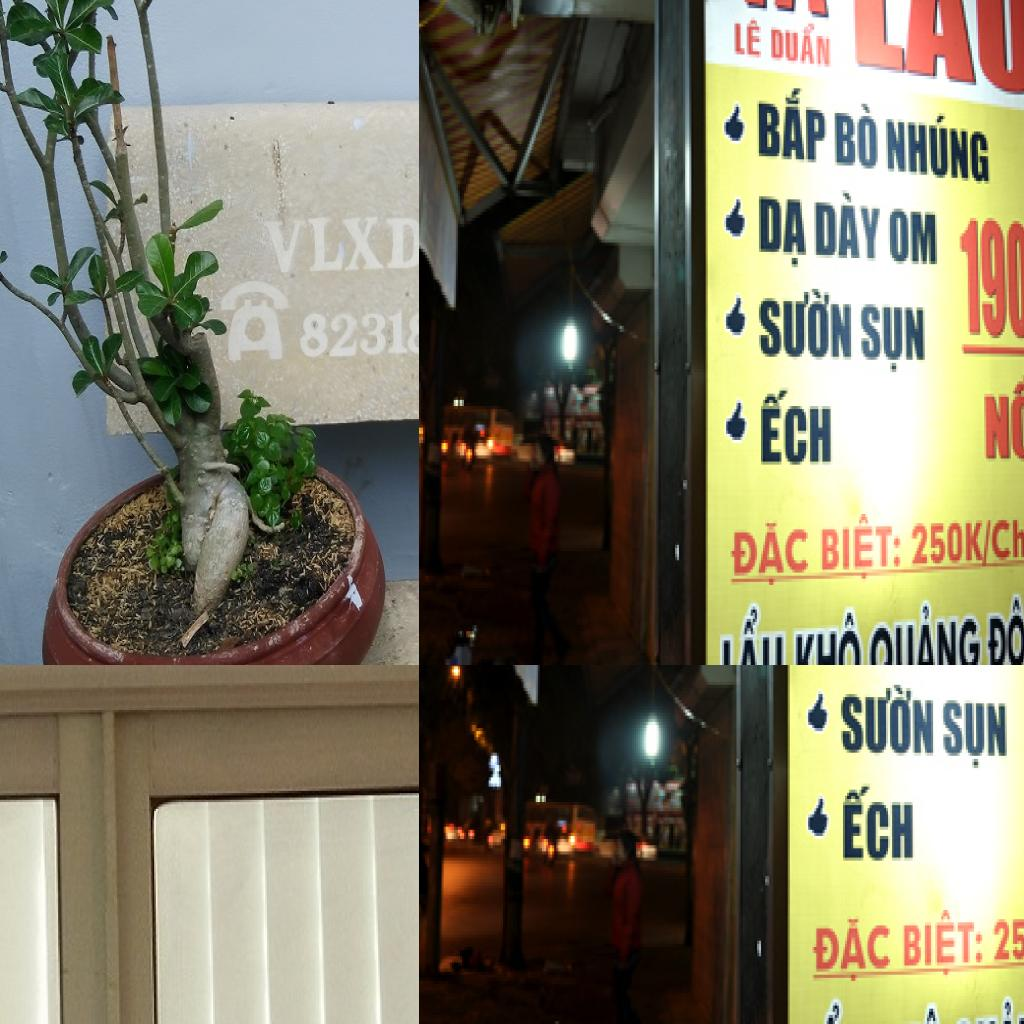text: (840, 0, 1024, 106), (267, 202, 419, 290), (949, 205, 1024, 347), (749, 277, 857, 372), (831, 673, 939, 768), (882, 98, 992, 187), (747, 378, 843, 471), (829, 774, 925, 867), (300, 299, 419, 373), (902, 504, 1024, 575), (720, 511, 812, 591), (802, 907, 894, 987), (867, 600, 980, 665), (812, 508, 906, 582), (894, 904, 988, 978), (752, 79, 828, 169), (855, 292, 931, 378), (937, 688, 1013, 774), (810, 178, 882, 258), (972, 366, 1024, 474), (751, 181, 810, 276), (711, 597, 787, 665), (787, 600, 865, 665), (769, 14, 839, 79), (828, 94, 882, 168), (884, 203, 941, 264), (984, 900, 1024, 971), (793, 993, 869, 1024), (869, 996, 947, 1024), (730, 8, 765, 61)
